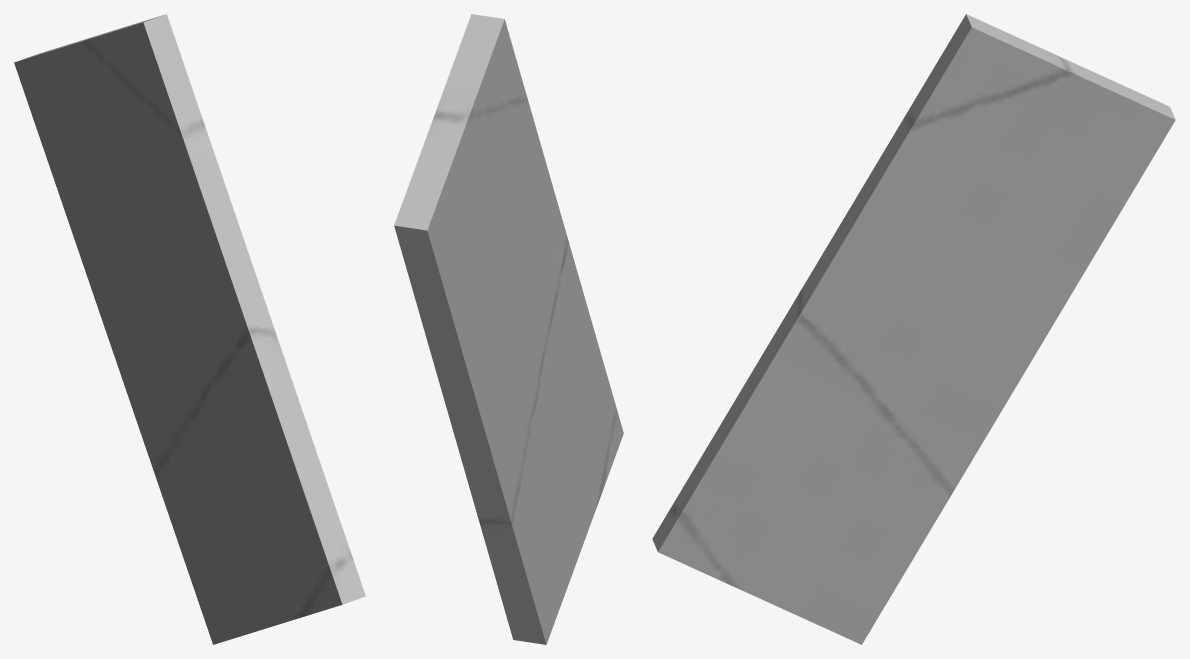
The model's file is fan_wheel__fan_blade_8.glb.
The picture shows the model from 3 angles, left to right: view 1: azimuth 30°, elevation 25°; view 2: azimuth 150°, elevation 25°; view 3: azimuth 270°, elevation 25°; orthographic projection. The views are drawn at different scales.
Visible parts, largest first — view 1: geometry_0; view 2: geometry_0; view 3: geometry_0.
Part boxes in pixels (x1,y1,x2,y2): geometry_0: (14, 14, 365, 644); geometry_0: (394, 14, 623, 644); geometry_0: (652, 14, 1175, 644).
Bounding box in the file's own units: 0.0315 × 0.1686 × 0.1313.
Materials: 1 (1 with a texture image).
